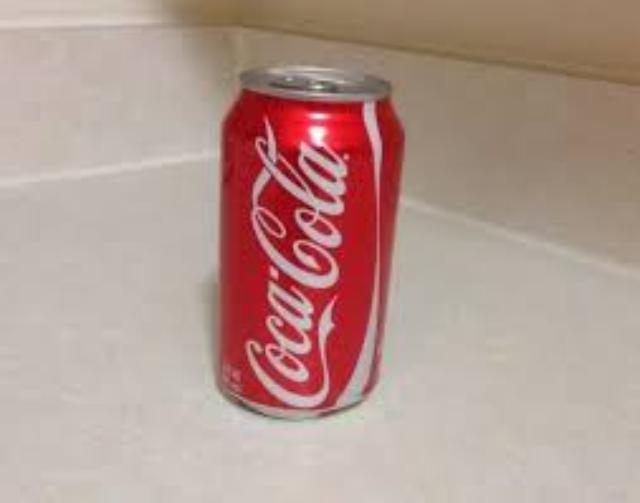metal: (215, 63, 400, 412)
